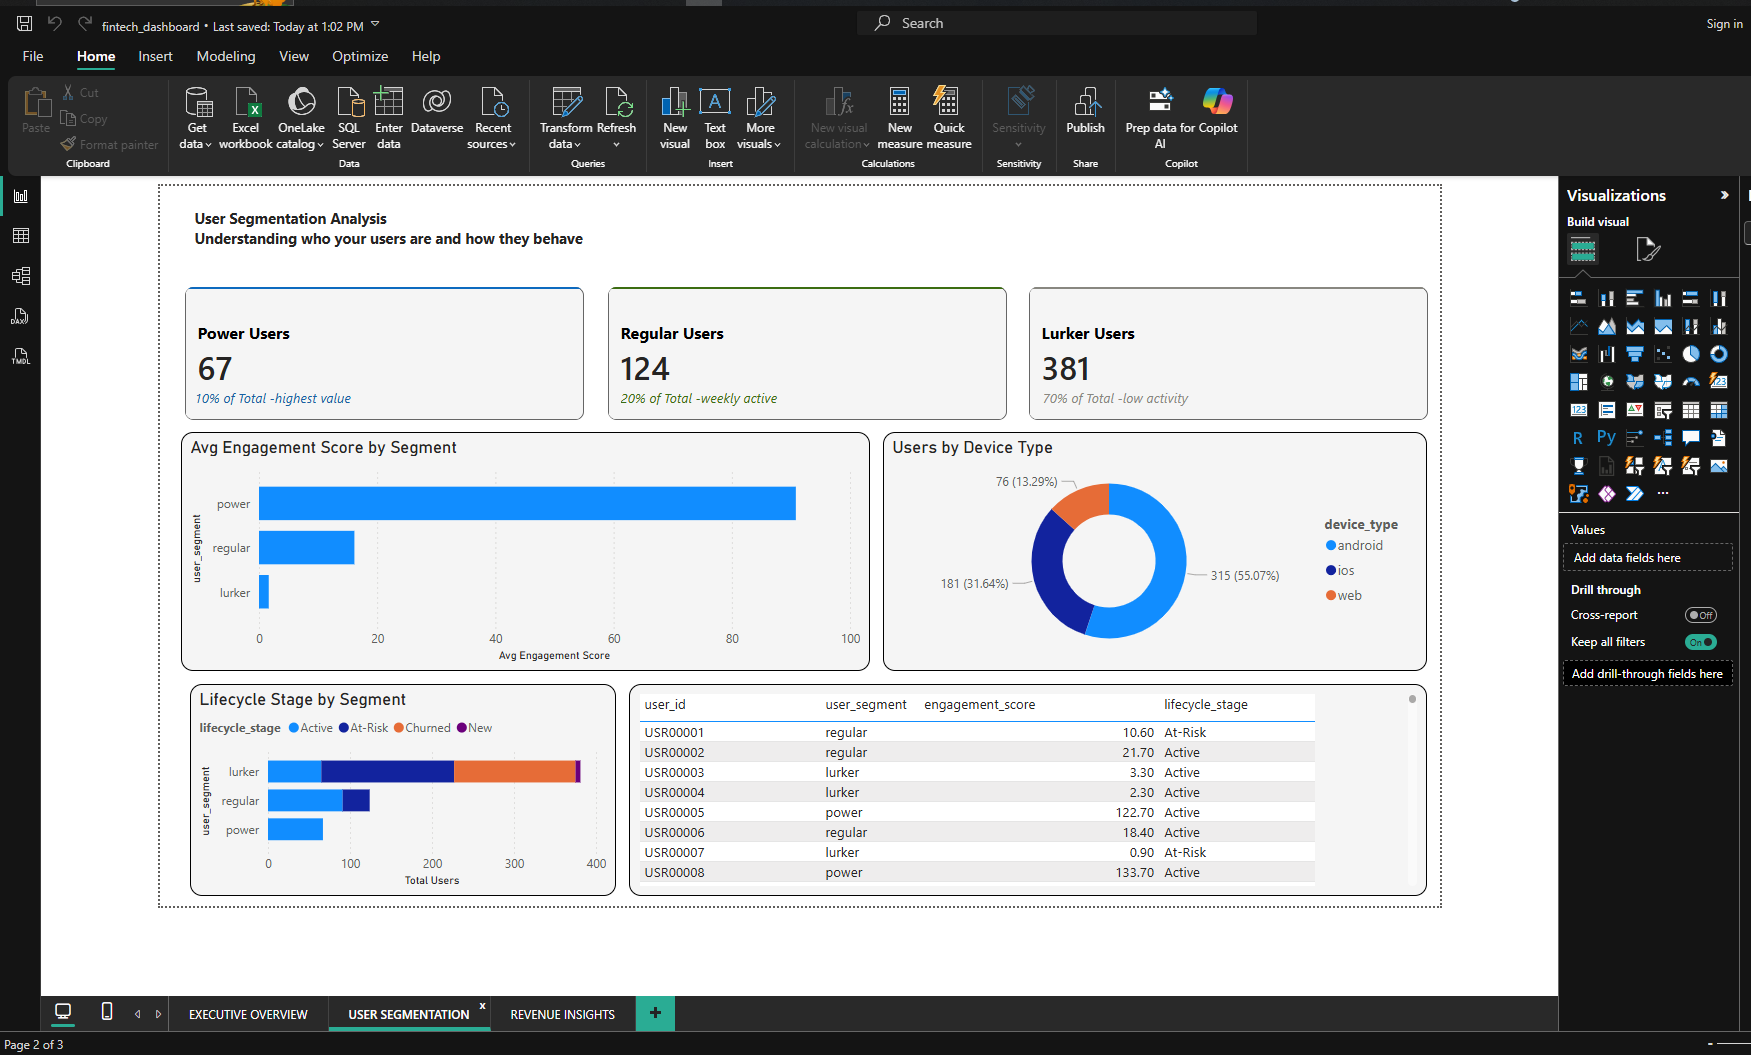

Layout of this report page (visuals, bound fields, positions):
{"tool":"powerbi","page":{"name":"USER SEGMENTATION","canvas":[1280,720],"ordinal":1},"visuals":[{"type":"cardVisual","fields":{"Data":["user_lifecycle.Power Users"]},"box":[12.6,88.5,423.1,157.6],"z":1000},{"type":"textbox","box":[30.2,16.5,650.7,65.2],"z":9000},{"type":"cardVisual","fields":{"Data":["user_lifecycle.Regular Users"]},"box":[435.7,88.5,423.1,157.6],"z":10001},{"type":"cardVisual","fields":{"Data":["user_lifecycle.Lurker Users"]},"box":[856.9,88.5,423.1,157.6],"z":10002},{"type":"textbox","box":[30.2,198.4,175.1,30.2],"z":10003},{"type":"textbox","box":[456.2,198.4,183.8,31.1],"z":10004},{"type":"textbox","box":[878.3,198.4,180.9,29.2],"z":10005},{"type":"clusteredBarChart","title":"Avg Engagement Score by Segment","fields":{"Category":["user_lifecycle.user_segment"],"Y":["dau_metrics.Avg Engagement Score"]},"box":[21.4,246.1,688.6,239.3],"z":10006},{"type":"barChart","title":"Lifecycle Stage by Segment","fields":{"Category":["user_lifecycle.user_segment"],"Y":["dau_metrics.Total Users"],"Series":["user_lifecycle.lifecycle_stage"]},"box":[30.2,498,426,212],"z":10007},{"type":"donutChart","title":"Users by Device Type","fields":{"Category":["user_lifecycle.device_type"],"Y":["dau_metrics.Total Users"]},"box":[722.7,246.1,544.7,239.3],"z":10008},{"type":"tableEx","fields":{"Values":["user_lifecycle.user_id","user_lifecycle.user_segment","user_lifecycle.engagement_score","user_lifecycle.lifecycle_stage"]},"box":[468.8,498,798.5,212],"z":10009}]}

Visuals, with their boxes on the page's 1280x720 design canvas (x1, y1, x2, y2). These are canvas units, not pixel positions in the 1751x1055 screenshot, which may show the page scaled, cropped or inside an application window:
cardVisual - user_lifecycle.Power Users: <bbox>13, 88, 436, 246</bbox>
textbox: <bbox>30, 16, 681, 82</bbox>
cardVisual - user_lifecycle.Regular Users: <bbox>436, 88, 859, 246</bbox>
cardVisual - user_lifecycle.Lurker Users: <bbox>857, 88, 1280, 246</bbox>
textbox: <bbox>30, 198, 205, 229</bbox>
textbox: <bbox>456, 198, 640, 230</bbox>
textbox: <bbox>878, 198, 1059, 228</bbox>
"Avg Engagement Score by Segment" clusteredBarChart: <bbox>21, 246, 710, 485</bbox>
"Lifecycle Stage by Segment" barChart: <bbox>30, 498, 456, 710</bbox>
"Users by Device Type" donutChart: <bbox>723, 246, 1267, 485</bbox>
tableEx - user_lifecycle.user_id x user_lifecycle.user_segment: <bbox>469, 498, 1267, 710</bbox>
